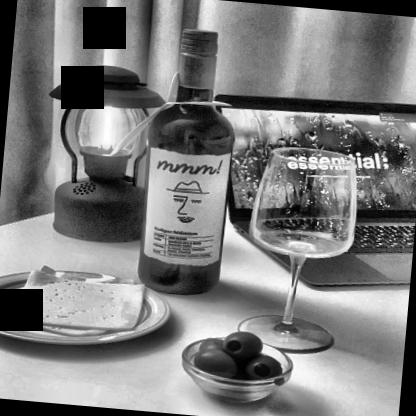umm: (142, 151, 230, 264)
